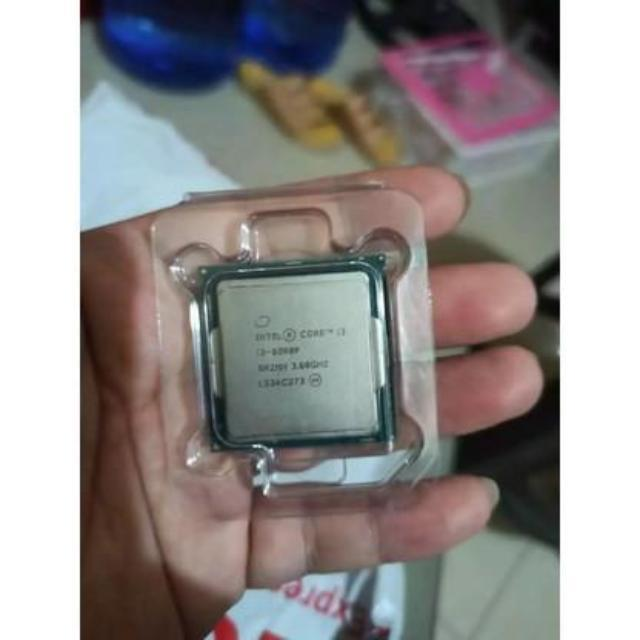CPU: (198, 263, 396, 452)
